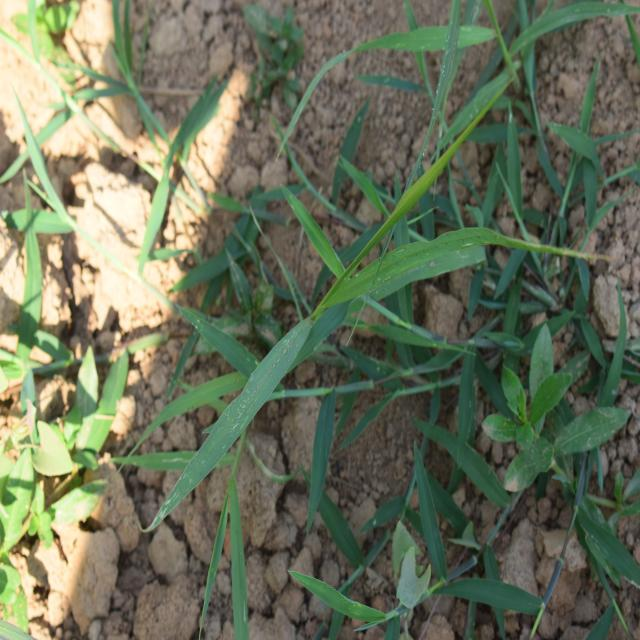green_foxtail: (146, 145, 488, 465)
